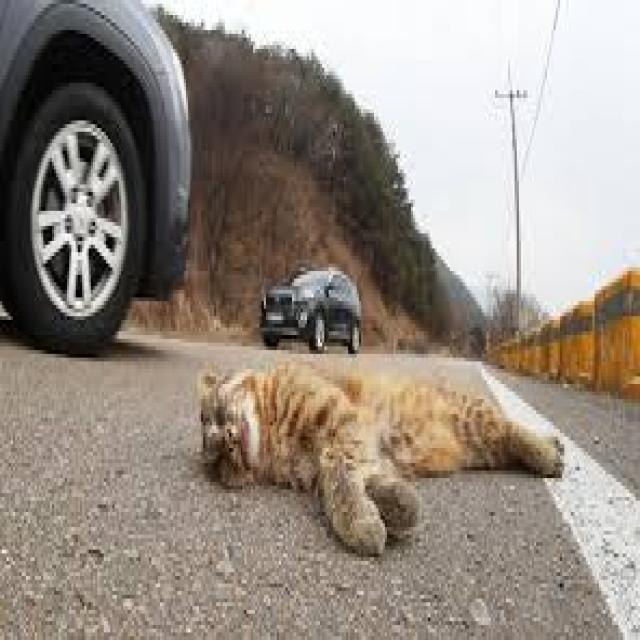cat: (184, 347, 570, 570)
